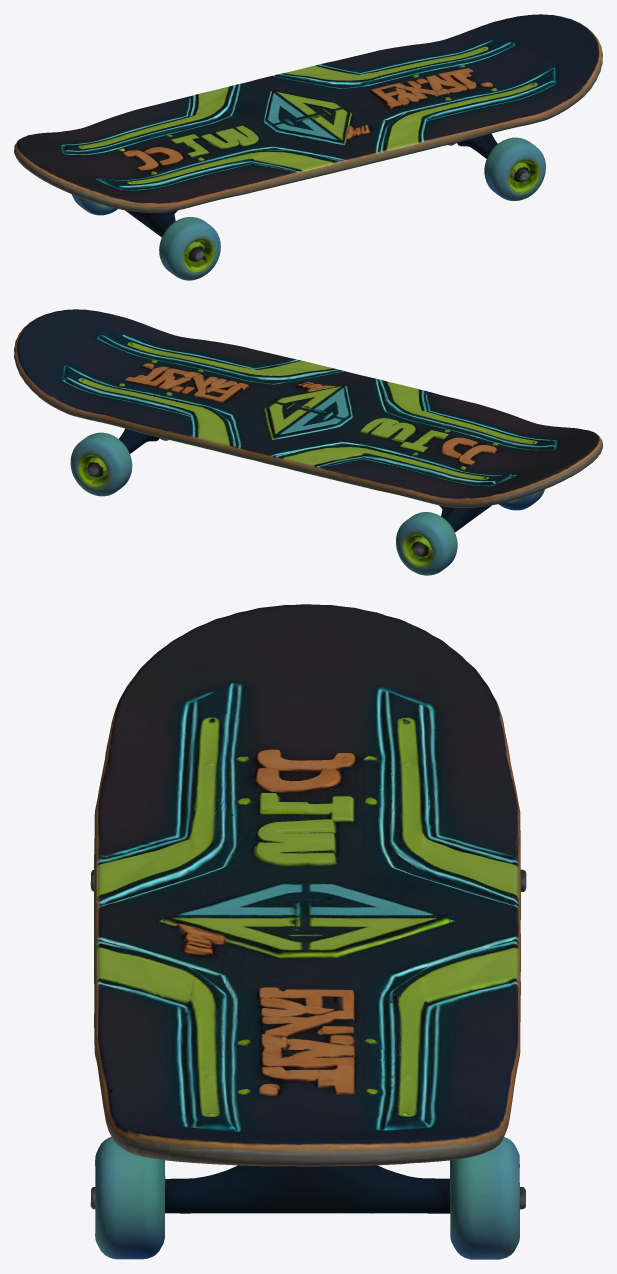
The model's file is Skateboard basic.glb.
3 views of the same model, one above another, from view 1: azimuth 30°, elevation 25°; view 2: azimuth 150°, elevation 25°; view 3: azimuth 270°, elevation 25° (orthographic). The views are drawn at different scales.
Visible parts, largest first — view 1: tripo_node_3314547f-b17a-4299-a9b5-da918004997f; view 2: tripo_node_3314547f-b17a-4299-a9b5-da918004997f; view 3: tripo_node_3314547f-b17a-4299-a9b5-da918004997f.
Part boxes in pixels (x1,y1,x2,y2): tripo_node_3314547f-b17a-4299-a9b5-da918004997f: (14, 14, 602, 280); tripo_node_3314547f-b17a-4299-a9b5-da918004997f: (14, 309, 602, 575); tripo_node_3314547f-b17a-4299-a9b5-da918004997f: (90, 604, 526, 1259).
Size of the model in its own units: 1 by 0.1893 by 0.3365.
1 material, 1 textured.
